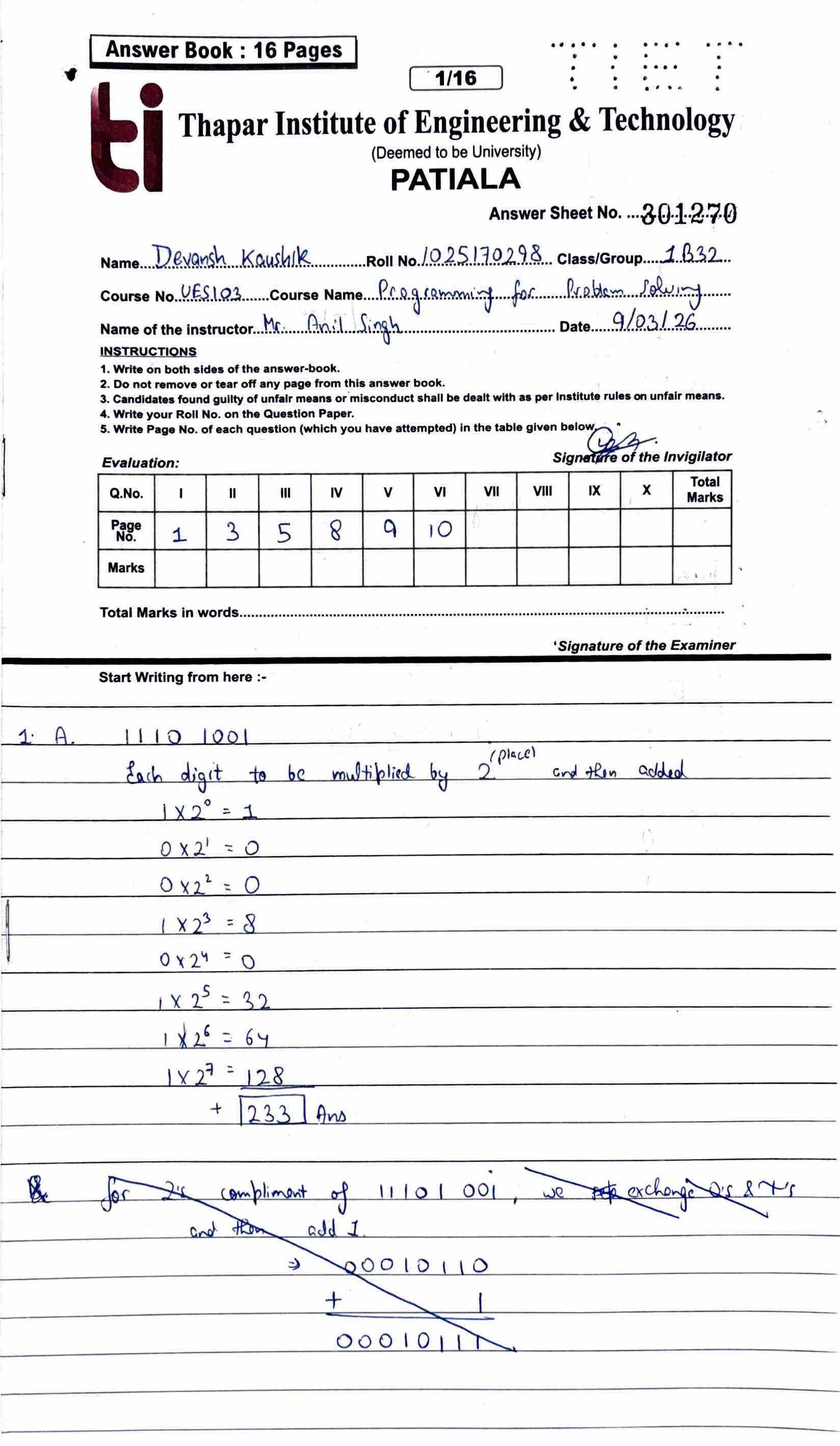cuttings: (97, 1163, 799, 1357), (26, 1173, 51, 1205)
